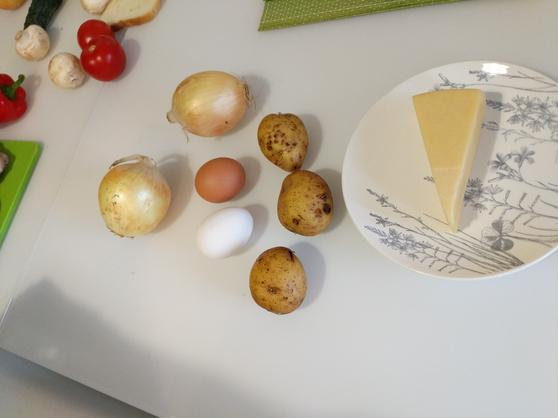champignon: (15, 26, 50, 63), (46, 55, 82, 87)
cheese: (413, 86, 489, 234)
egg: (199, 209, 256, 258), (193, 155, 246, 202)
onion: (95, 154, 172, 240), (167, 70, 254, 140)
pepper: (1, 76, 32, 127)
potato: (250, 248, 309, 318), (277, 169, 332, 234), (259, 113, 310, 173)
tomato: (84, 37, 128, 81), (77, 19, 112, 50)
white_bread: (111, 1, 168, 27)
